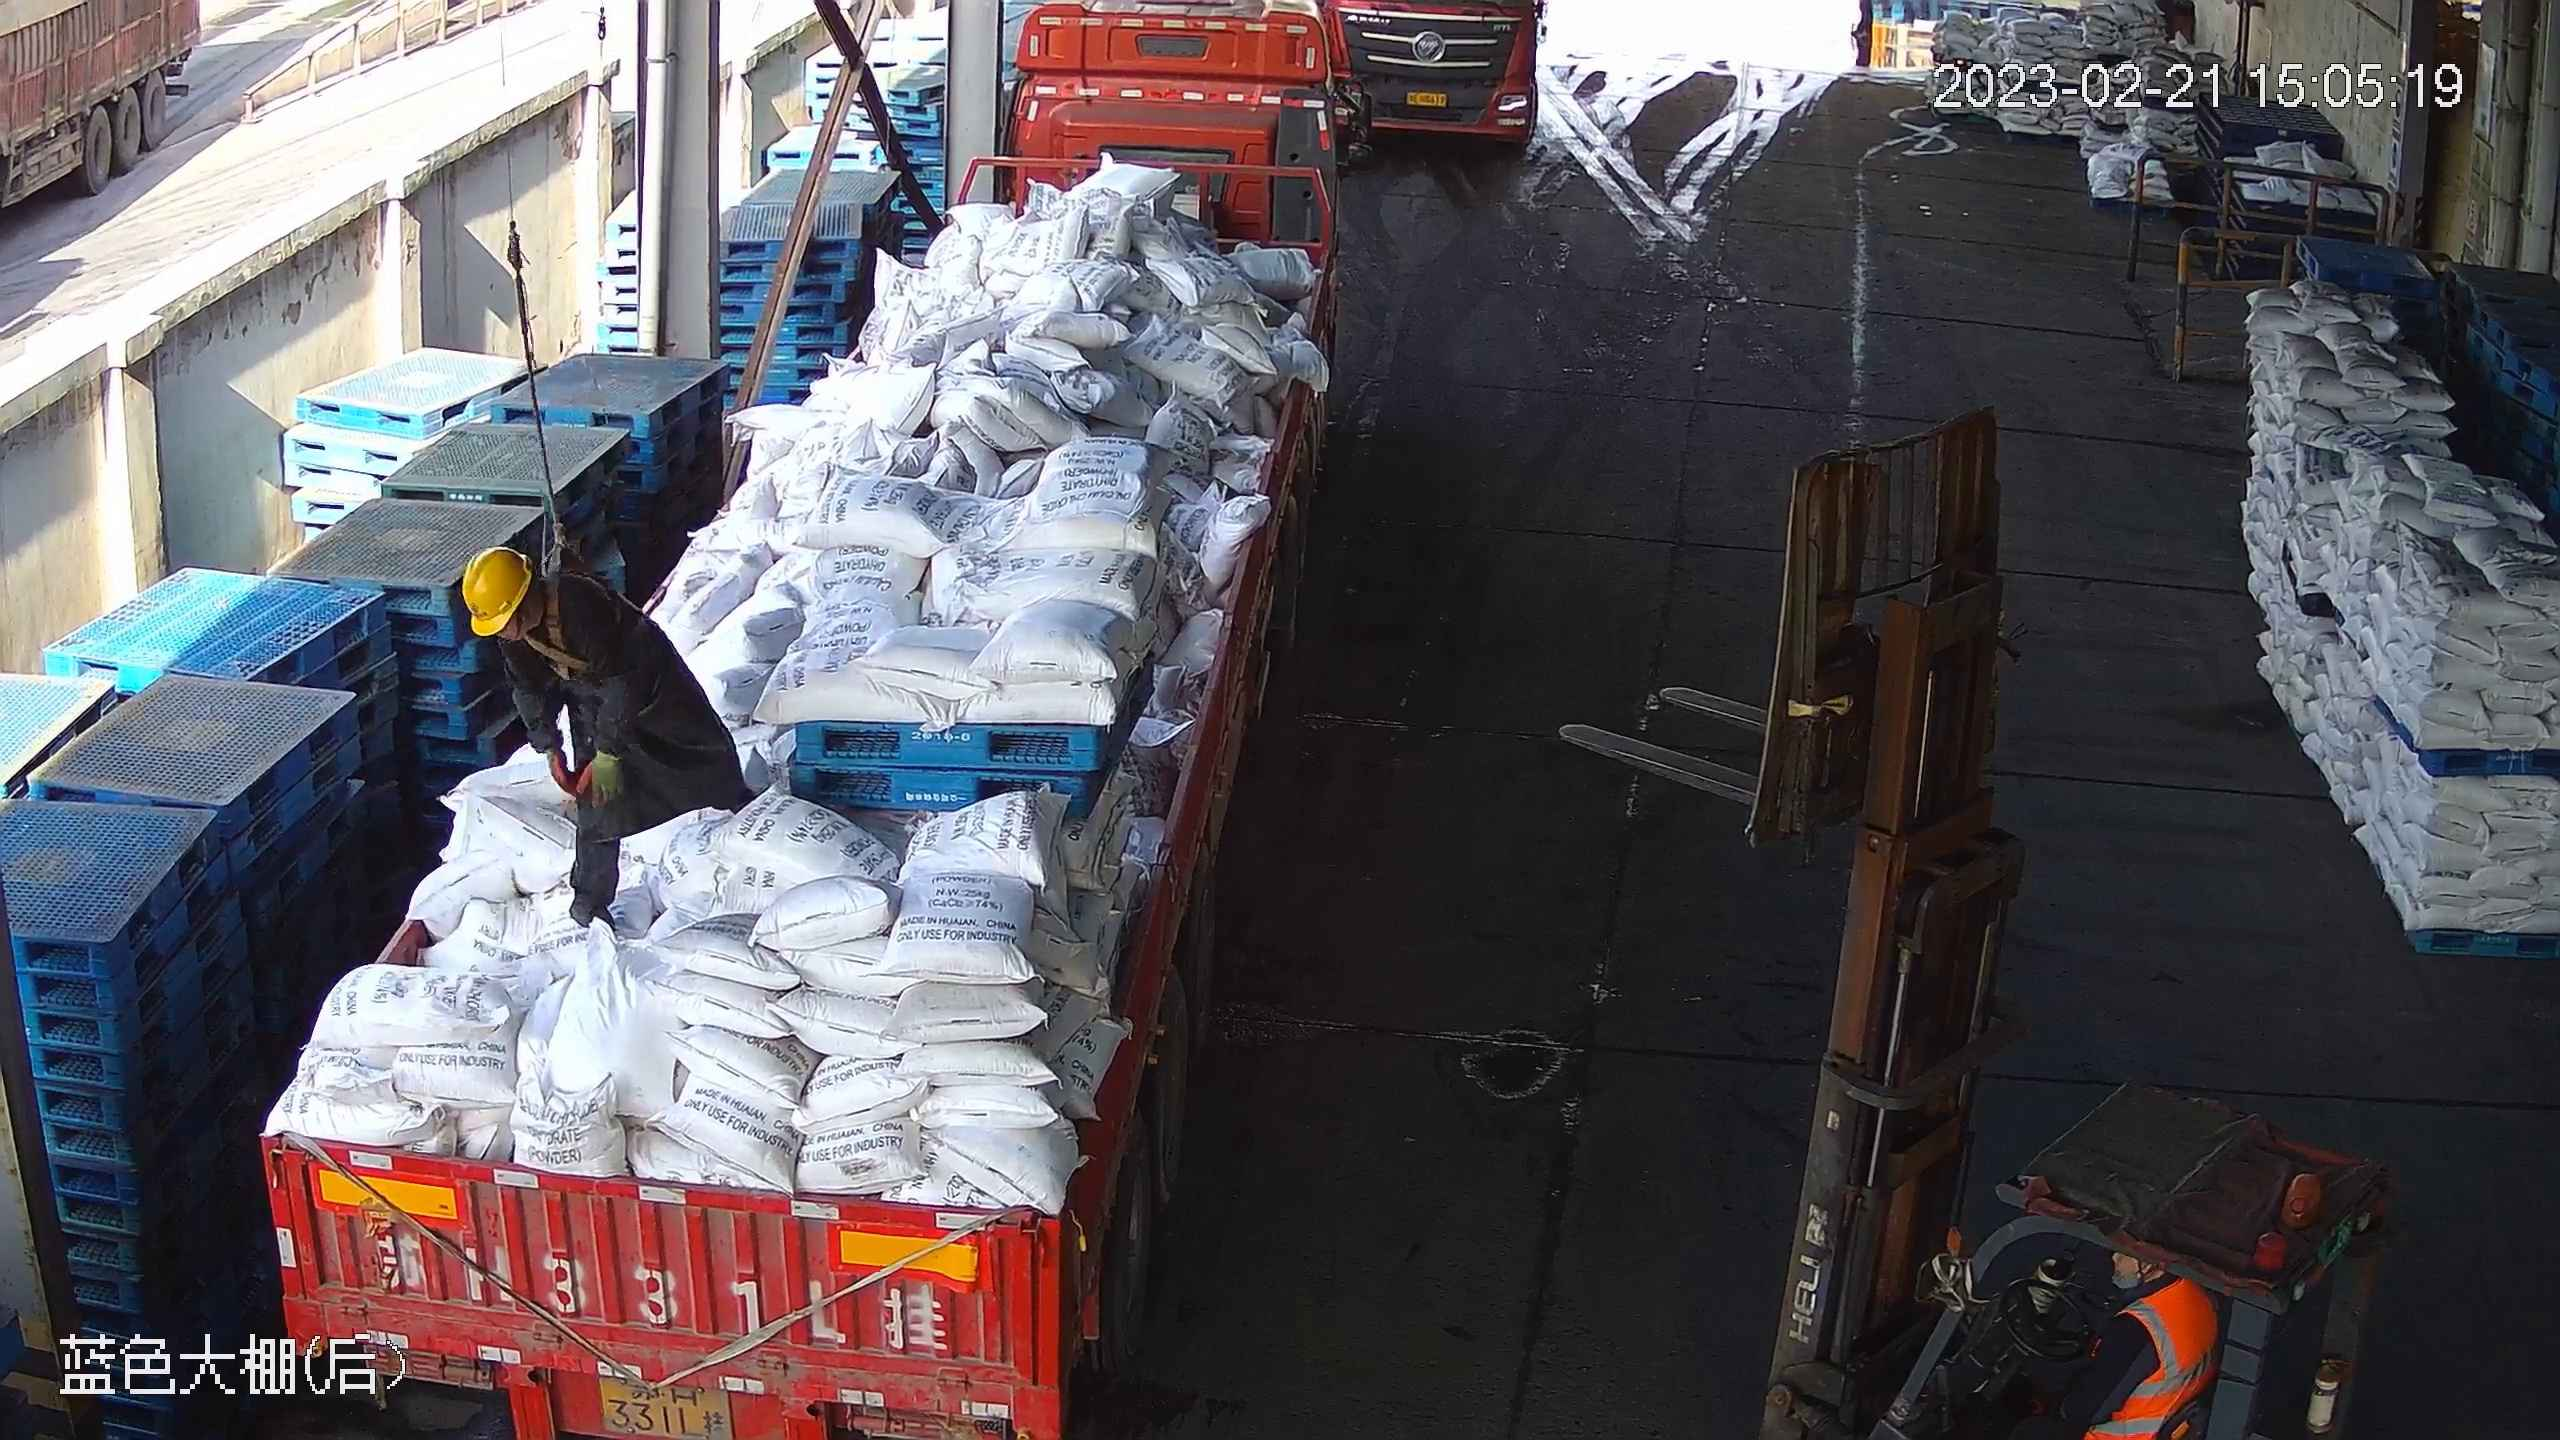belt: (530, 520, 595, 688)
head: (2023, 1253, 2226, 1424), (462, 540, 618, 693)
helmet: (461, 550, 535, 639)
people: (462, 542, 754, 940)
truck: (256, 1, 1337, 1432), (1329, 1, 1549, 149)
